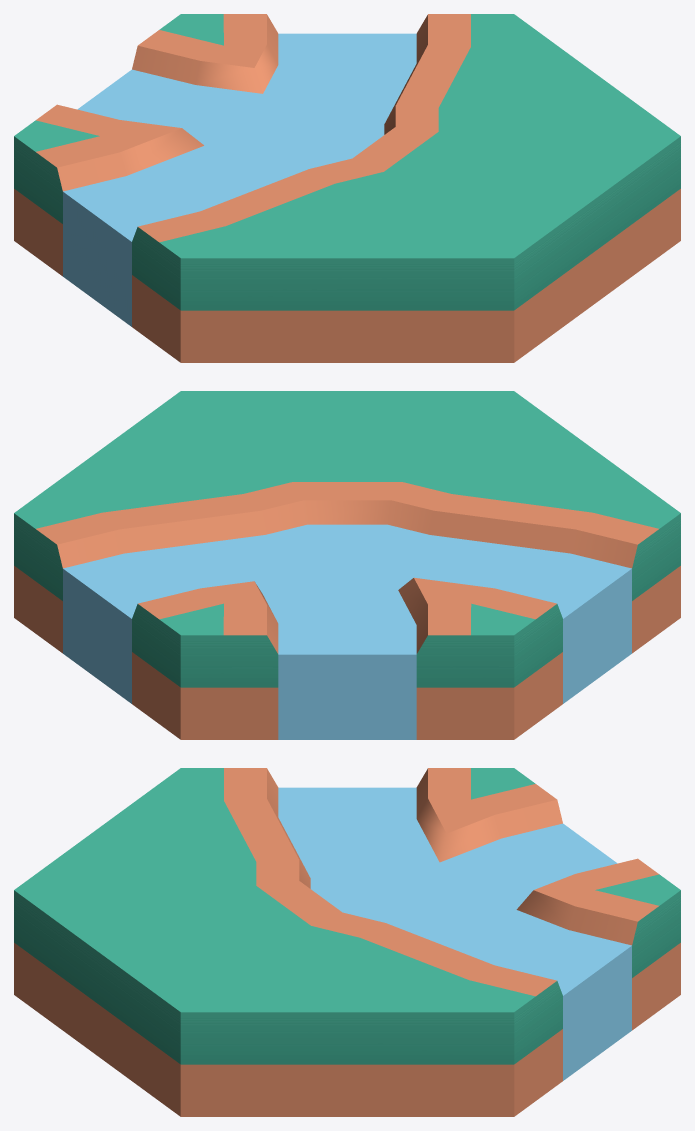
File: river-intersection-a.glb
3 renders of one model, top to bottom at view 1: azimuth 30°, elevation 25°; view 2: azimuth 150°, elevation 25°; view 3: azimuth 270°, elevation 25°, orthographic.
Parts seen in each view (by area): view 1: river-intersectionA; view 2: river-intersectionA; view 3: river-intersectionA.
Boxes of the visible parts, <box> form: river-intersectionA: <box>14,14,680,362</box>; river-intersectionA: <box>14,391,680,739</box>; river-intersectionA: <box>14,768,680,1116</box>.
Bounding box in the file's own units: 1 × 0.2 × 1.15.
Materials: 1 (1 with a texture image).
